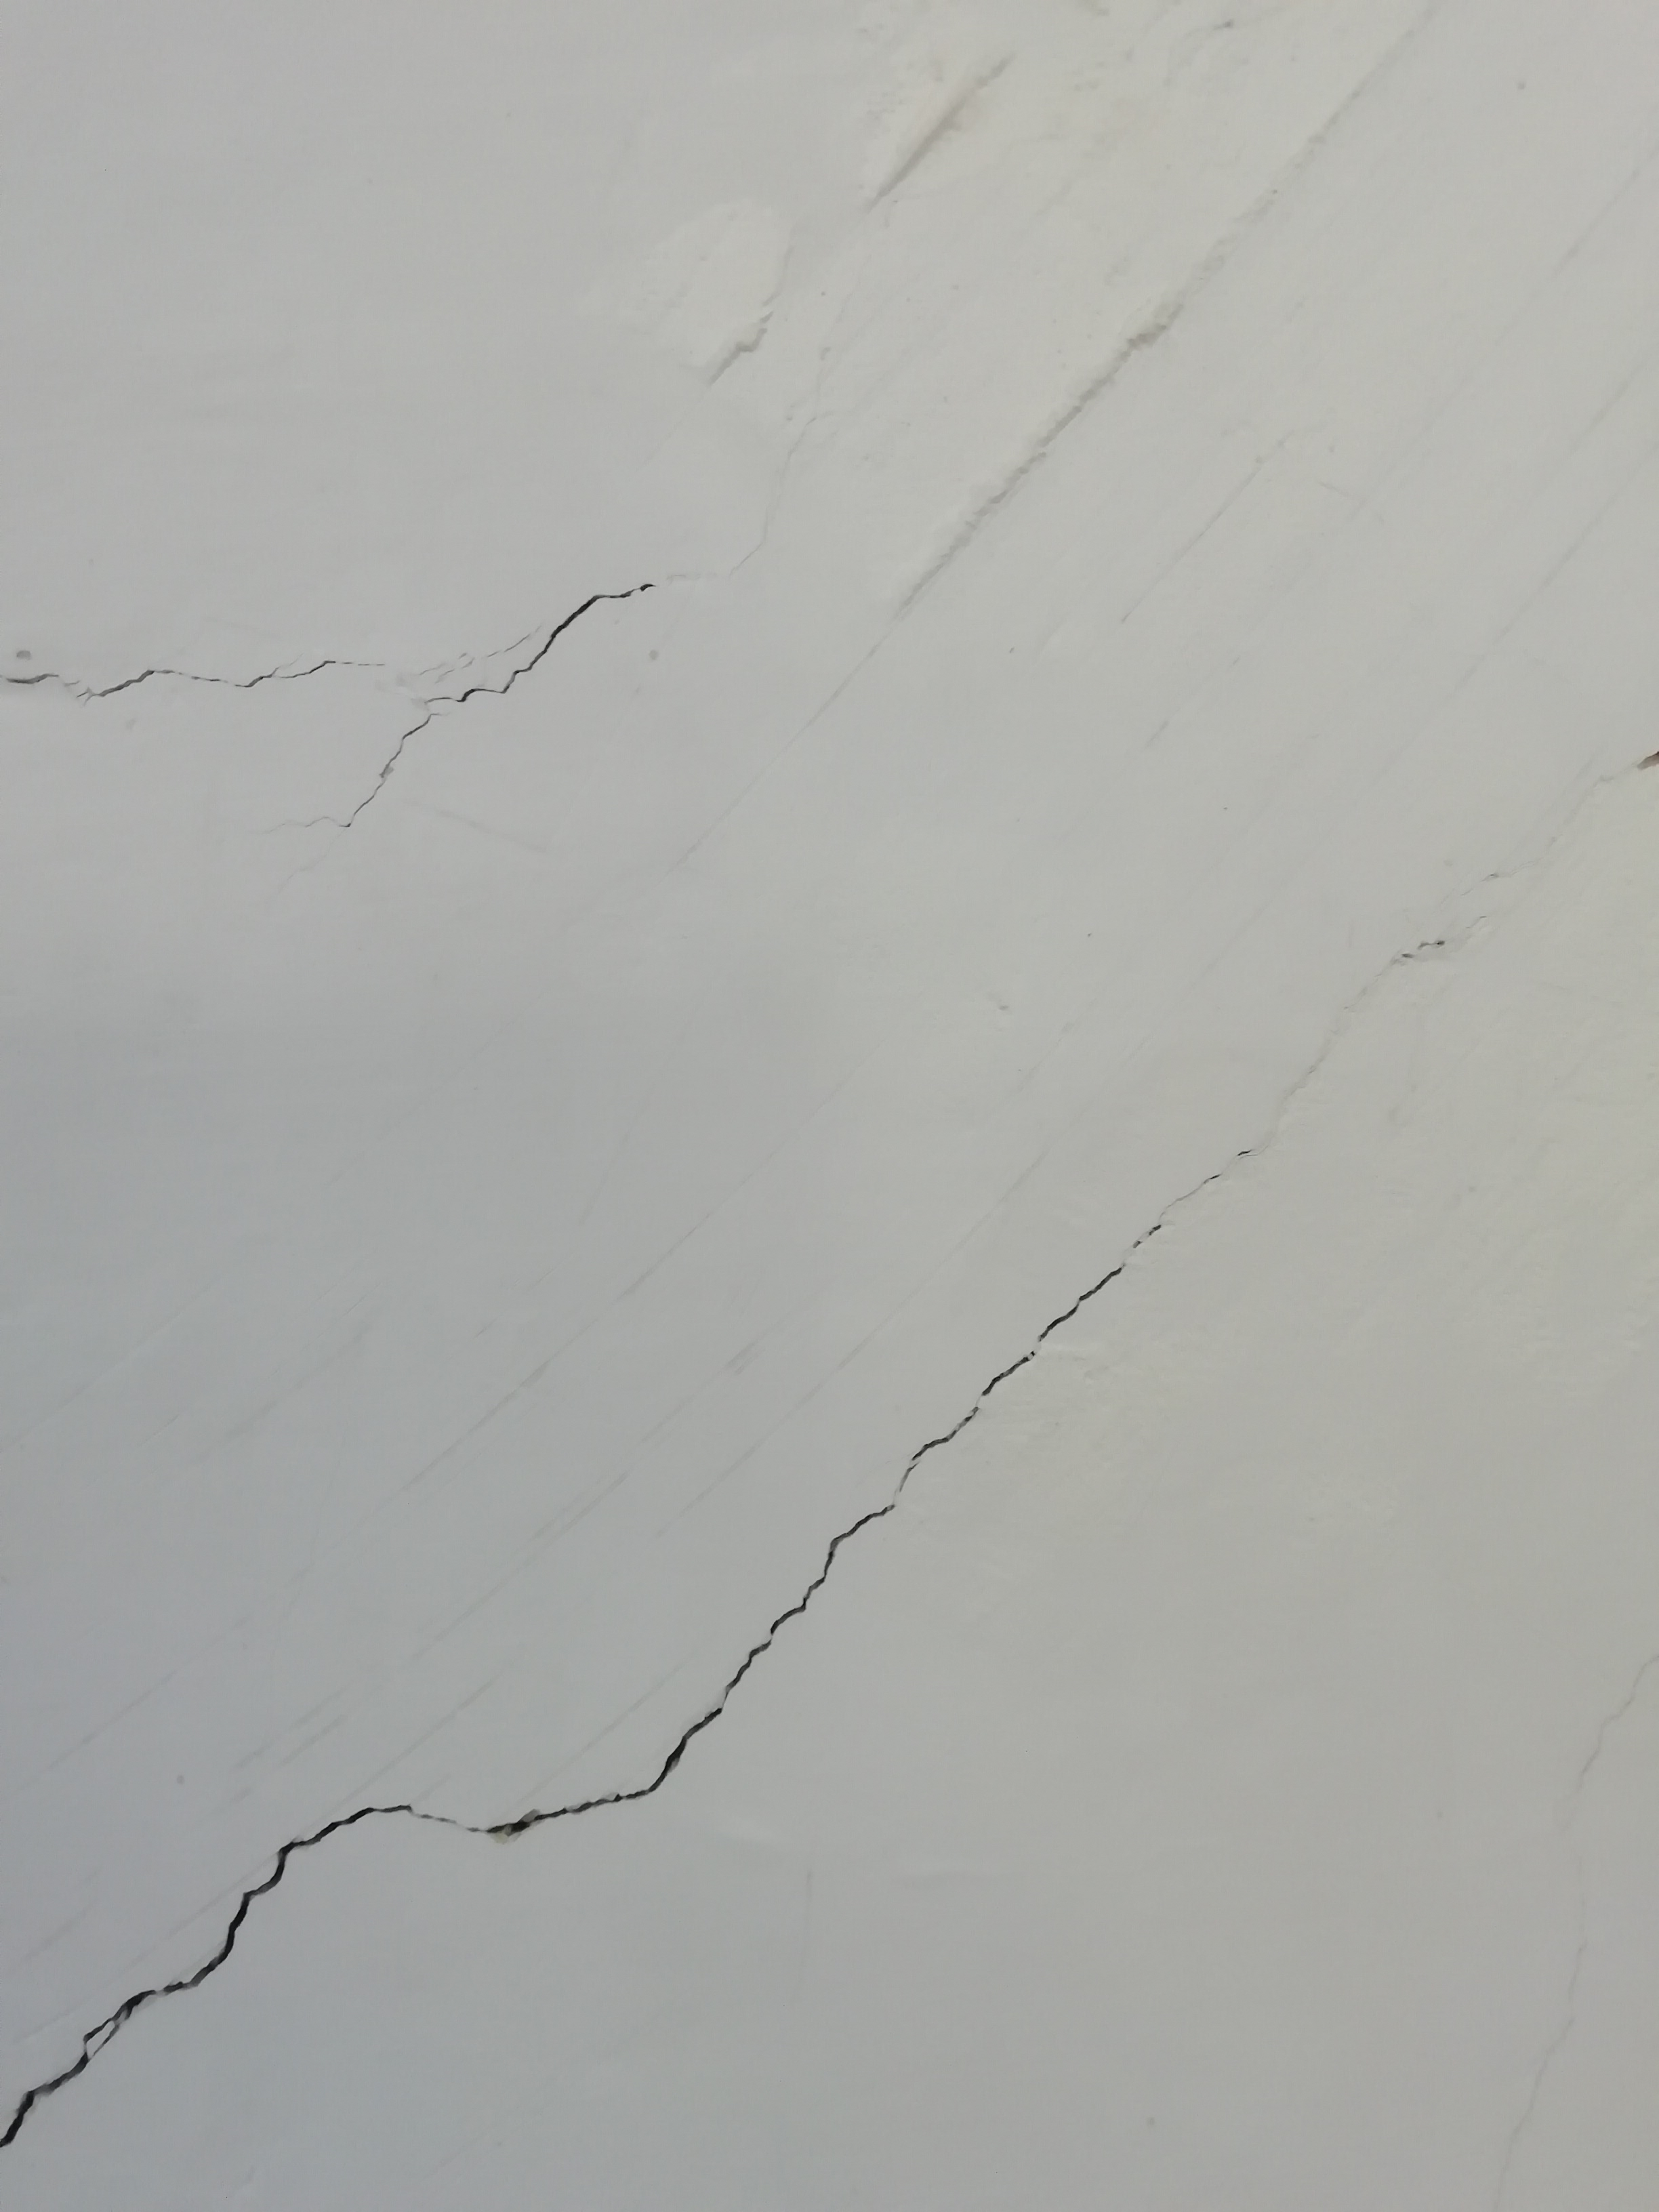Crack: (471, 1501, 896, 1831), (12, 1803, 399, 2139), (896, 1233, 1150, 1498), (371, 589, 640, 775)
